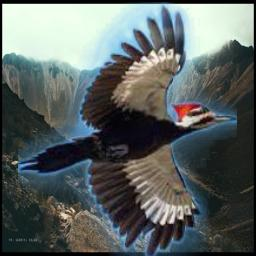Woodpecker: (18, 2, 237, 256)
